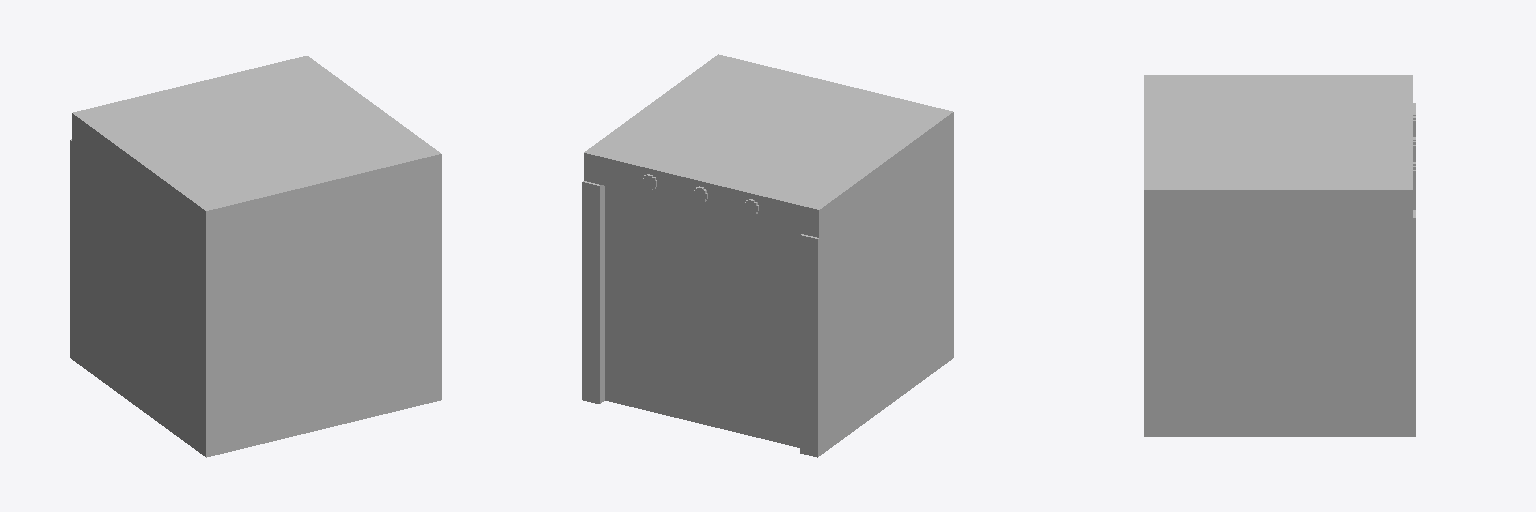
The model's file is Horno.obj.
3 views of the same model, side by side, from view 1: azimuth 30°, elevation 25°; view 2: azimuth 150°, elevation 25°; view 3: azimuth 270°, elevation 25° (orthographic).
Visible parts, largest first — view 1: object 1; view 2: object 1; view 3: object 1.
Part boxes in pixels (left/top/right/bottom): object 1: left=70, top=56, right=441, bottom=457; object 1: left=582, top=54, right=953, bottom=457; object 1: left=1144, top=75, right=1415, bottom=436.
Bounding box in the file's own units: 17.6 × 17.6 × 17.6.